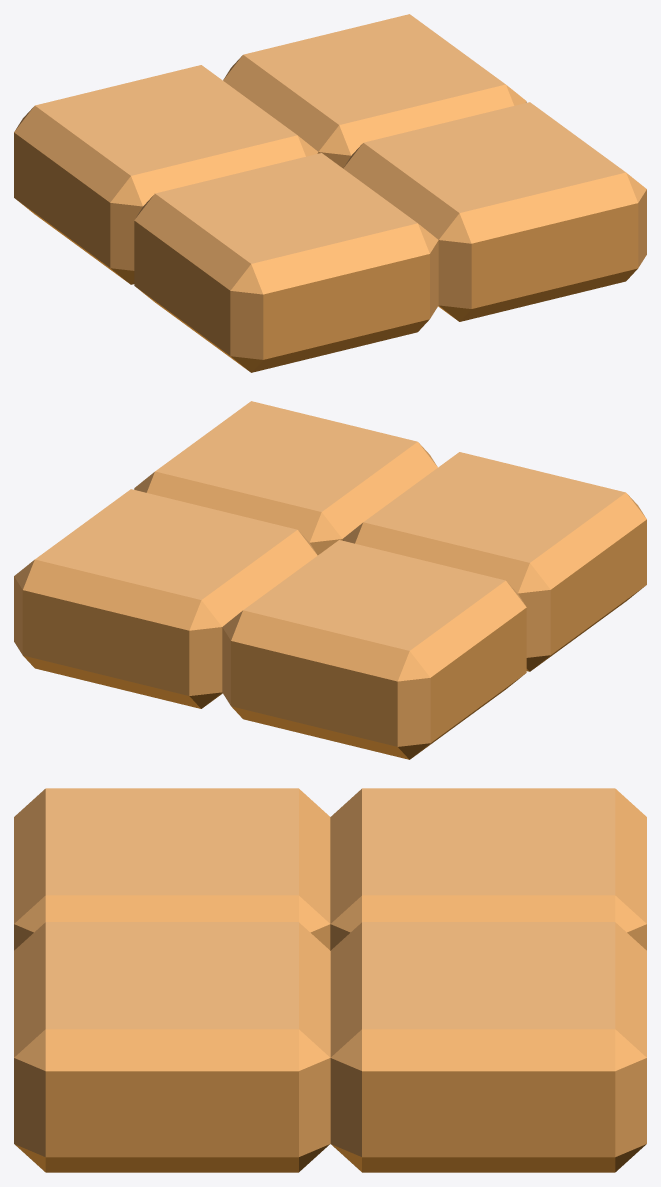
Rendered from m_kub_clay_flatFour.FBX.
3 views of the same model, one above another, from view 1: azimuth 30°, elevation 25°; view 2: azimuth 150°, elevation 25°; view 3: azimuth 270°, elevation 25° (orthographic). The views are drawn at different scales.
Parts seen in each view (by area): view 1: m_kub_clay_flatFour; view 2: m_kub_clay_flatFour; view 3: m_kub_clay_flatFour.
Boxes of the visible parts, <box> form: m_kub_clay_flatFour: <box>14,14,646,372</box>; m_kub_clay_flatFour: <box>14,401,646,759</box>; m_kub_clay_flatFour: <box>14,788,646,1172</box>.
Size of the model in its own units: 2 by 0.5 by 2.
